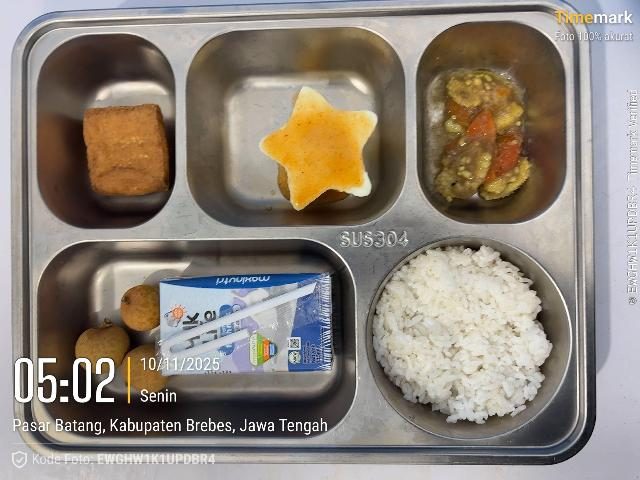buah: (75, 319, 170, 393), (120, 285, 160, 331)
nasi: (373, 246, 553, 423)
sayur: (436, 70, 531, 201)
susu: (141, 273, 333, 376)
tahu: (83, 104, 169, 196)
telur: (259, 87, 377, 210)
